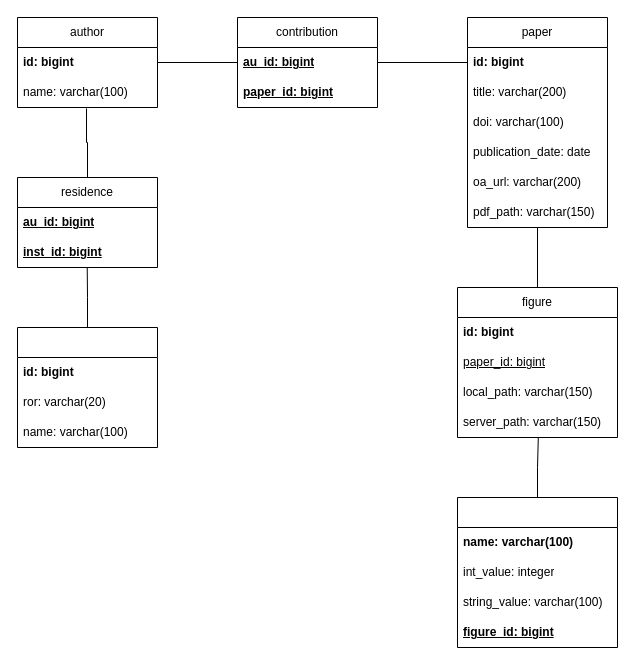
Image size: 635x665. Some labels were removed from this diagram. Each missing label, with the box of its shape:
figure_property: (456, 496, 618, 648)
institution: (16, 326, 158, 448)
